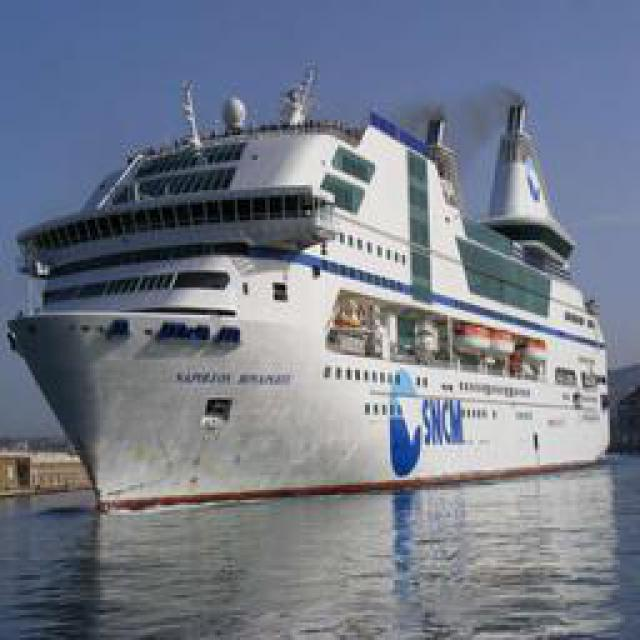Ship: (15, 77, 613, 530)
